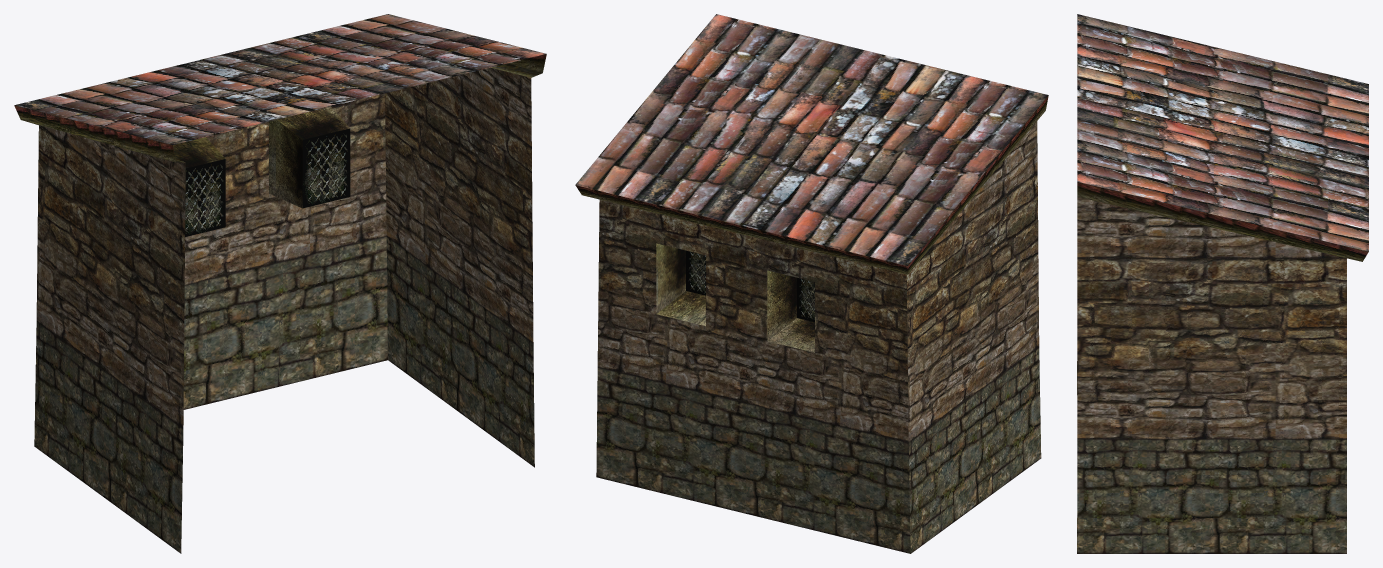
Rendered from tn5_house5.glb.
3 views of the same model, side by side, from view 1: azimuth 30°, elevation 25°; view 2: azimuth 150°, elevation 25°; view 3: azimuth 270°, elevation 25° (orthographic). The views are drawn at different scales.
Visible parts, largest first — view 1: tn5_house5-col; view 2: tn5_house5-col; view 3: tn5_house5-col.
Boxes of the visible parts, box(x1,y1,x2,y2) form: tn5_house5-col: box(14, 14, 546, 553); tn5_house5-col: box(575, 14, 1048, 553); tn5_house5-col: box(1077, 14, 1368, 553).
Size of the model in its own units: 5.13 by 5.38 by 3.77.
Materials: 7 (7 with a texture image).
